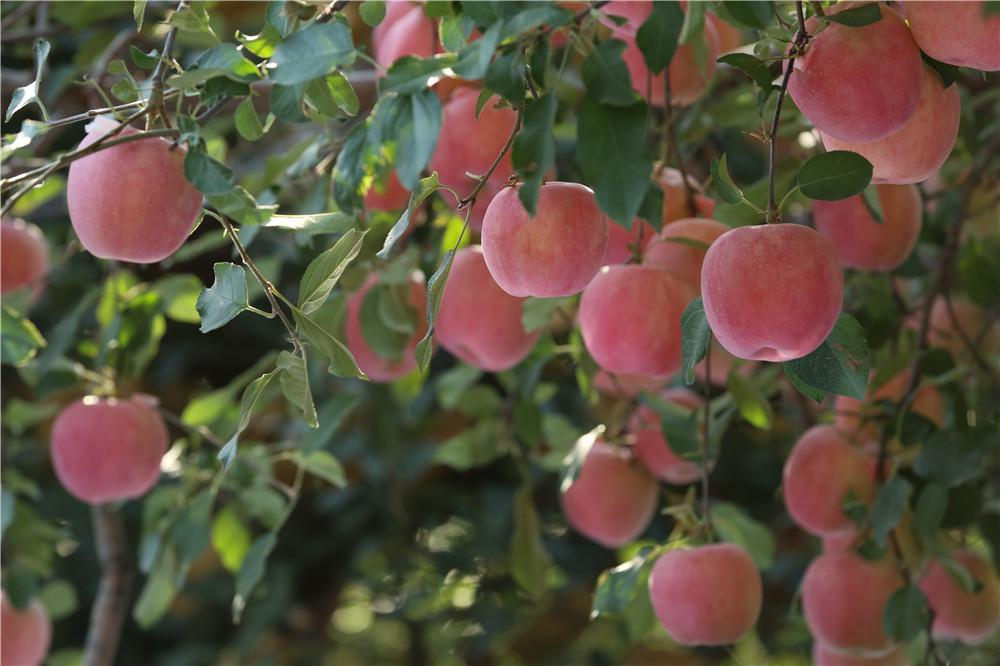apple: (788, 2, 927, 143), (703, 221, 842, 362), (68, 123, 200, 264), (480, 175, 613, 296), (39, 384, 163, 507), (579, 259, 702, 382), (416, 253, 543, 371), (819, 87, 959, 190), (640, 543, 765, 652), (777, 430, 890, 535)
